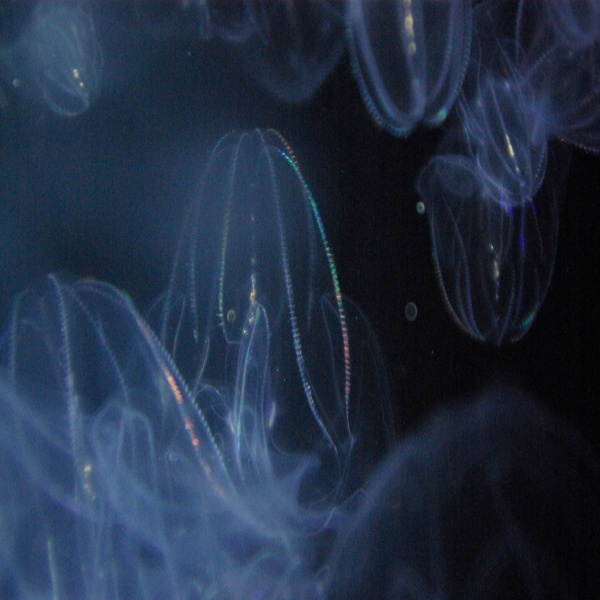Jellyfish: (0, 279, 324, 599), (141, 109, 379, 496), (338, 0, 599, 349), (5, 0, 108, 116)
